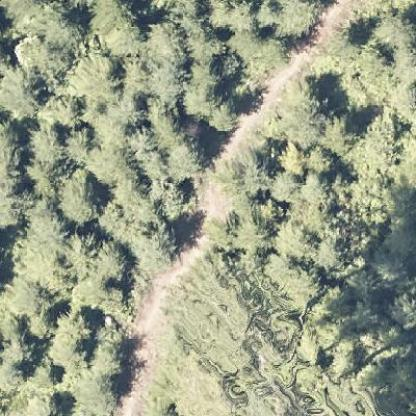tree-top: (55, 164, 106, 227), (229, 28, 290, 77), (254, 1, 326, 40), (0, 64, 46, 118), (144, 18, 188, 70), (161, 138, 209, 183), (90, 326, 126, 382), (90, 236, 129, 280)
